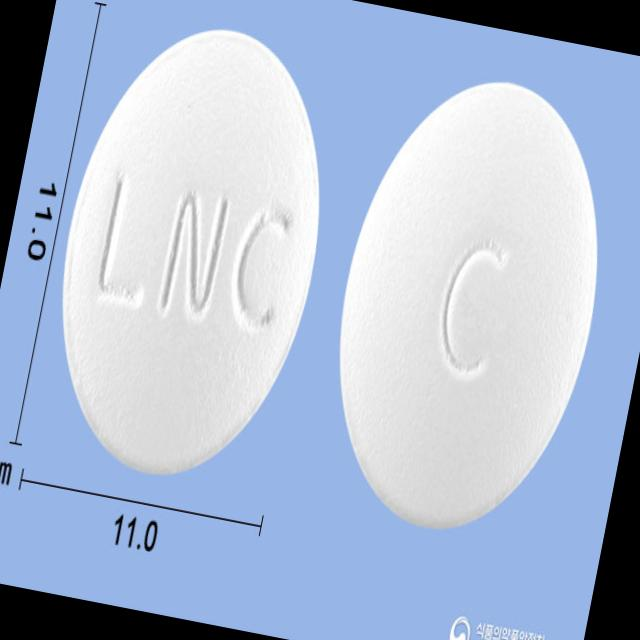Mega Ciflox: (304, 58, 636, 553), (27, 8, 357, 496)
